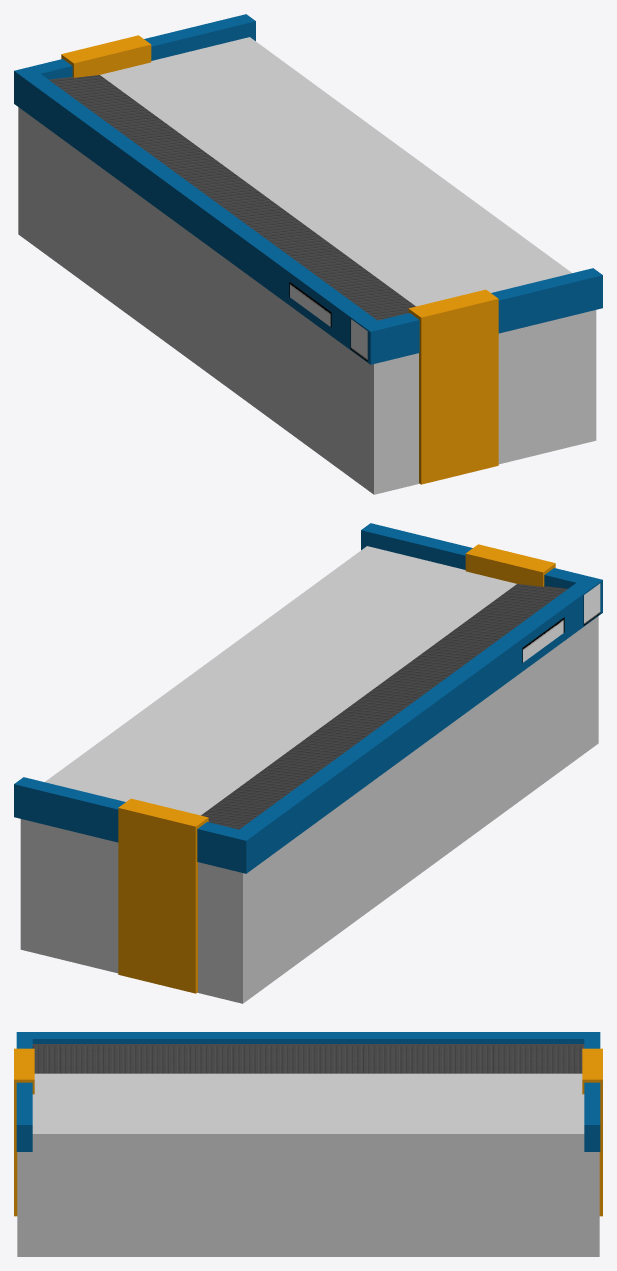
Rendered from sideb.glb.
3 views of the same model, one above another, from view 1: azimuth 30°, elevation 25°; view 2: azimuth 150°, elevation 25°; view 3: azimuth 270°, elevation 25° (orthographic). The views are drawn at different scales.
Parts seen in each view (by area): view 1: Cube.009, Line002, Rectangle140, Object072, carwash; view 2: Cube.009, Line002, Rectangle140, Object072, carwash; view 3: Cube.009, Object072, Line002, Rectangle140.
Boxes of the visible parts, bbox=[...] form: Cube.009: bbox=[18, 37, 596, 494]; Line002: bbox=[14, 14, 602, 364]; Rectangle140: bbox=[61, 35, 498, 484]; Object072: bbox=[49, 75, 415, 320]; carwash: bbox=[289, 282, 331, 327]; Cube.009: bbox=[20, 546, 598, 1003]; Line002: bbox=[14, 523, 602, 873]; Rectangle140: bbox=[118, 544, 555, 993]; Object072: bbox=[201, 584, 567, 829]; carwash: bbox=[522, 617, 564, 662]; Cube.009: bbox=[17, 1073, 599, 1256]; Object072: bbox=[32, 1044, 584, 1073]; Line002: bbox=[16, 1032, 600, 1151]; Rectangle140: bbox=[14, 1048, 602, 1216].
Size of the model in its own units: 6.34 by 4.37 by 17.
Materials: 4 (2 with a texture image).
